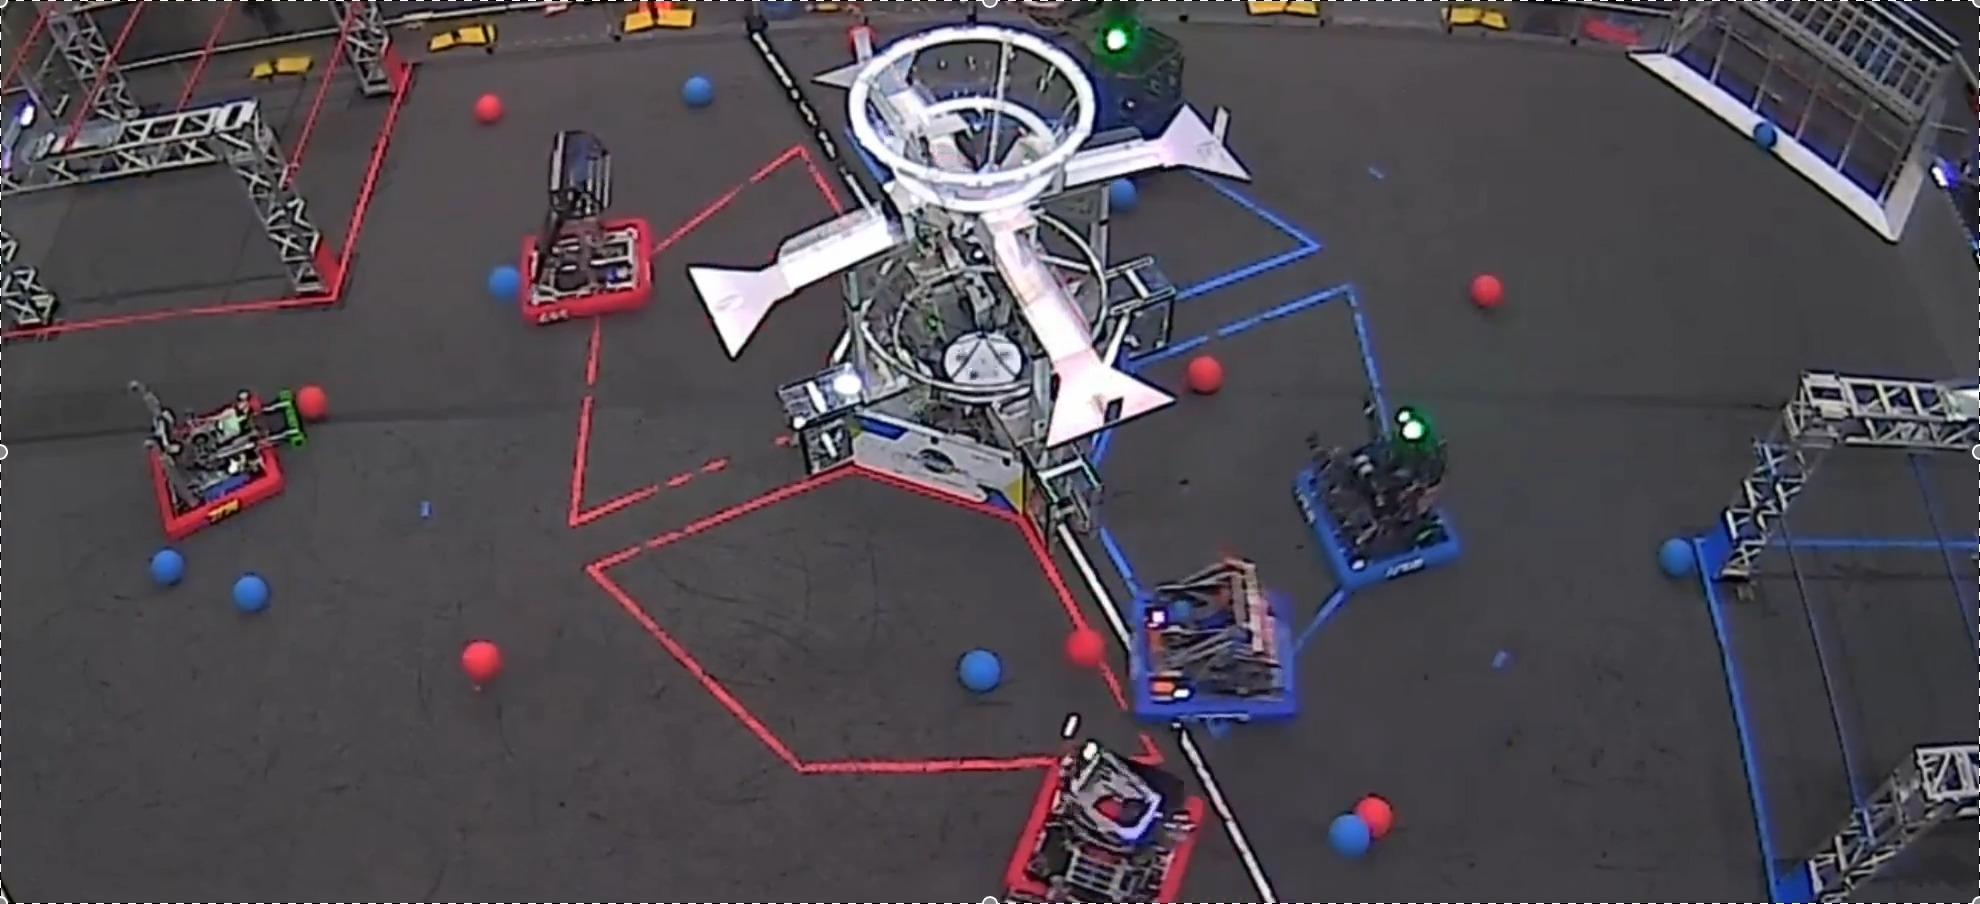Robots: (1006, 739, 1202, 901), (1294, 401, 1457, 590), (129, 381, 306, 539), (1135, 556, 1296, 721), (520, 130, 650, 323), (1083, 16, 1195, 165)
